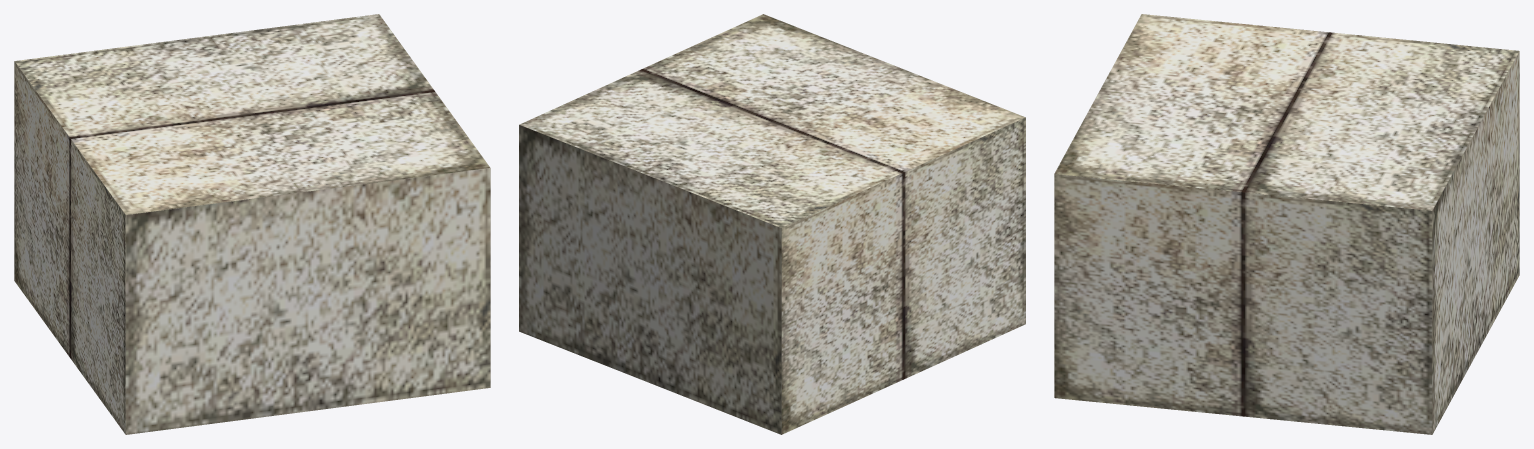
File: stone_4.glb
3 views of the same model, side by side, from view 1: azimuth 30°, elevation 25°; view 2: azimuth 150°, elevation 25°; view 3: azimuth 270°, elevation 25° (orthographic). The views are drawn at different scales.
Parts seen in each view (by area): view 1: stone_4.001; view 2: stone_4.001; view 3: stone_4.001.
Part boxes in pixels (x1,y1,x2,y2): stone_4.001: [14, 14, 490, 434]; stone_4.001: [519, 14, 1025, 434]; stone_4.001: [1054, 14, 1519, 434].
Bounding box in the file's own units: 70.23 × 37.26 × 70.17.
Materials: 1 (1 with a texture image).
